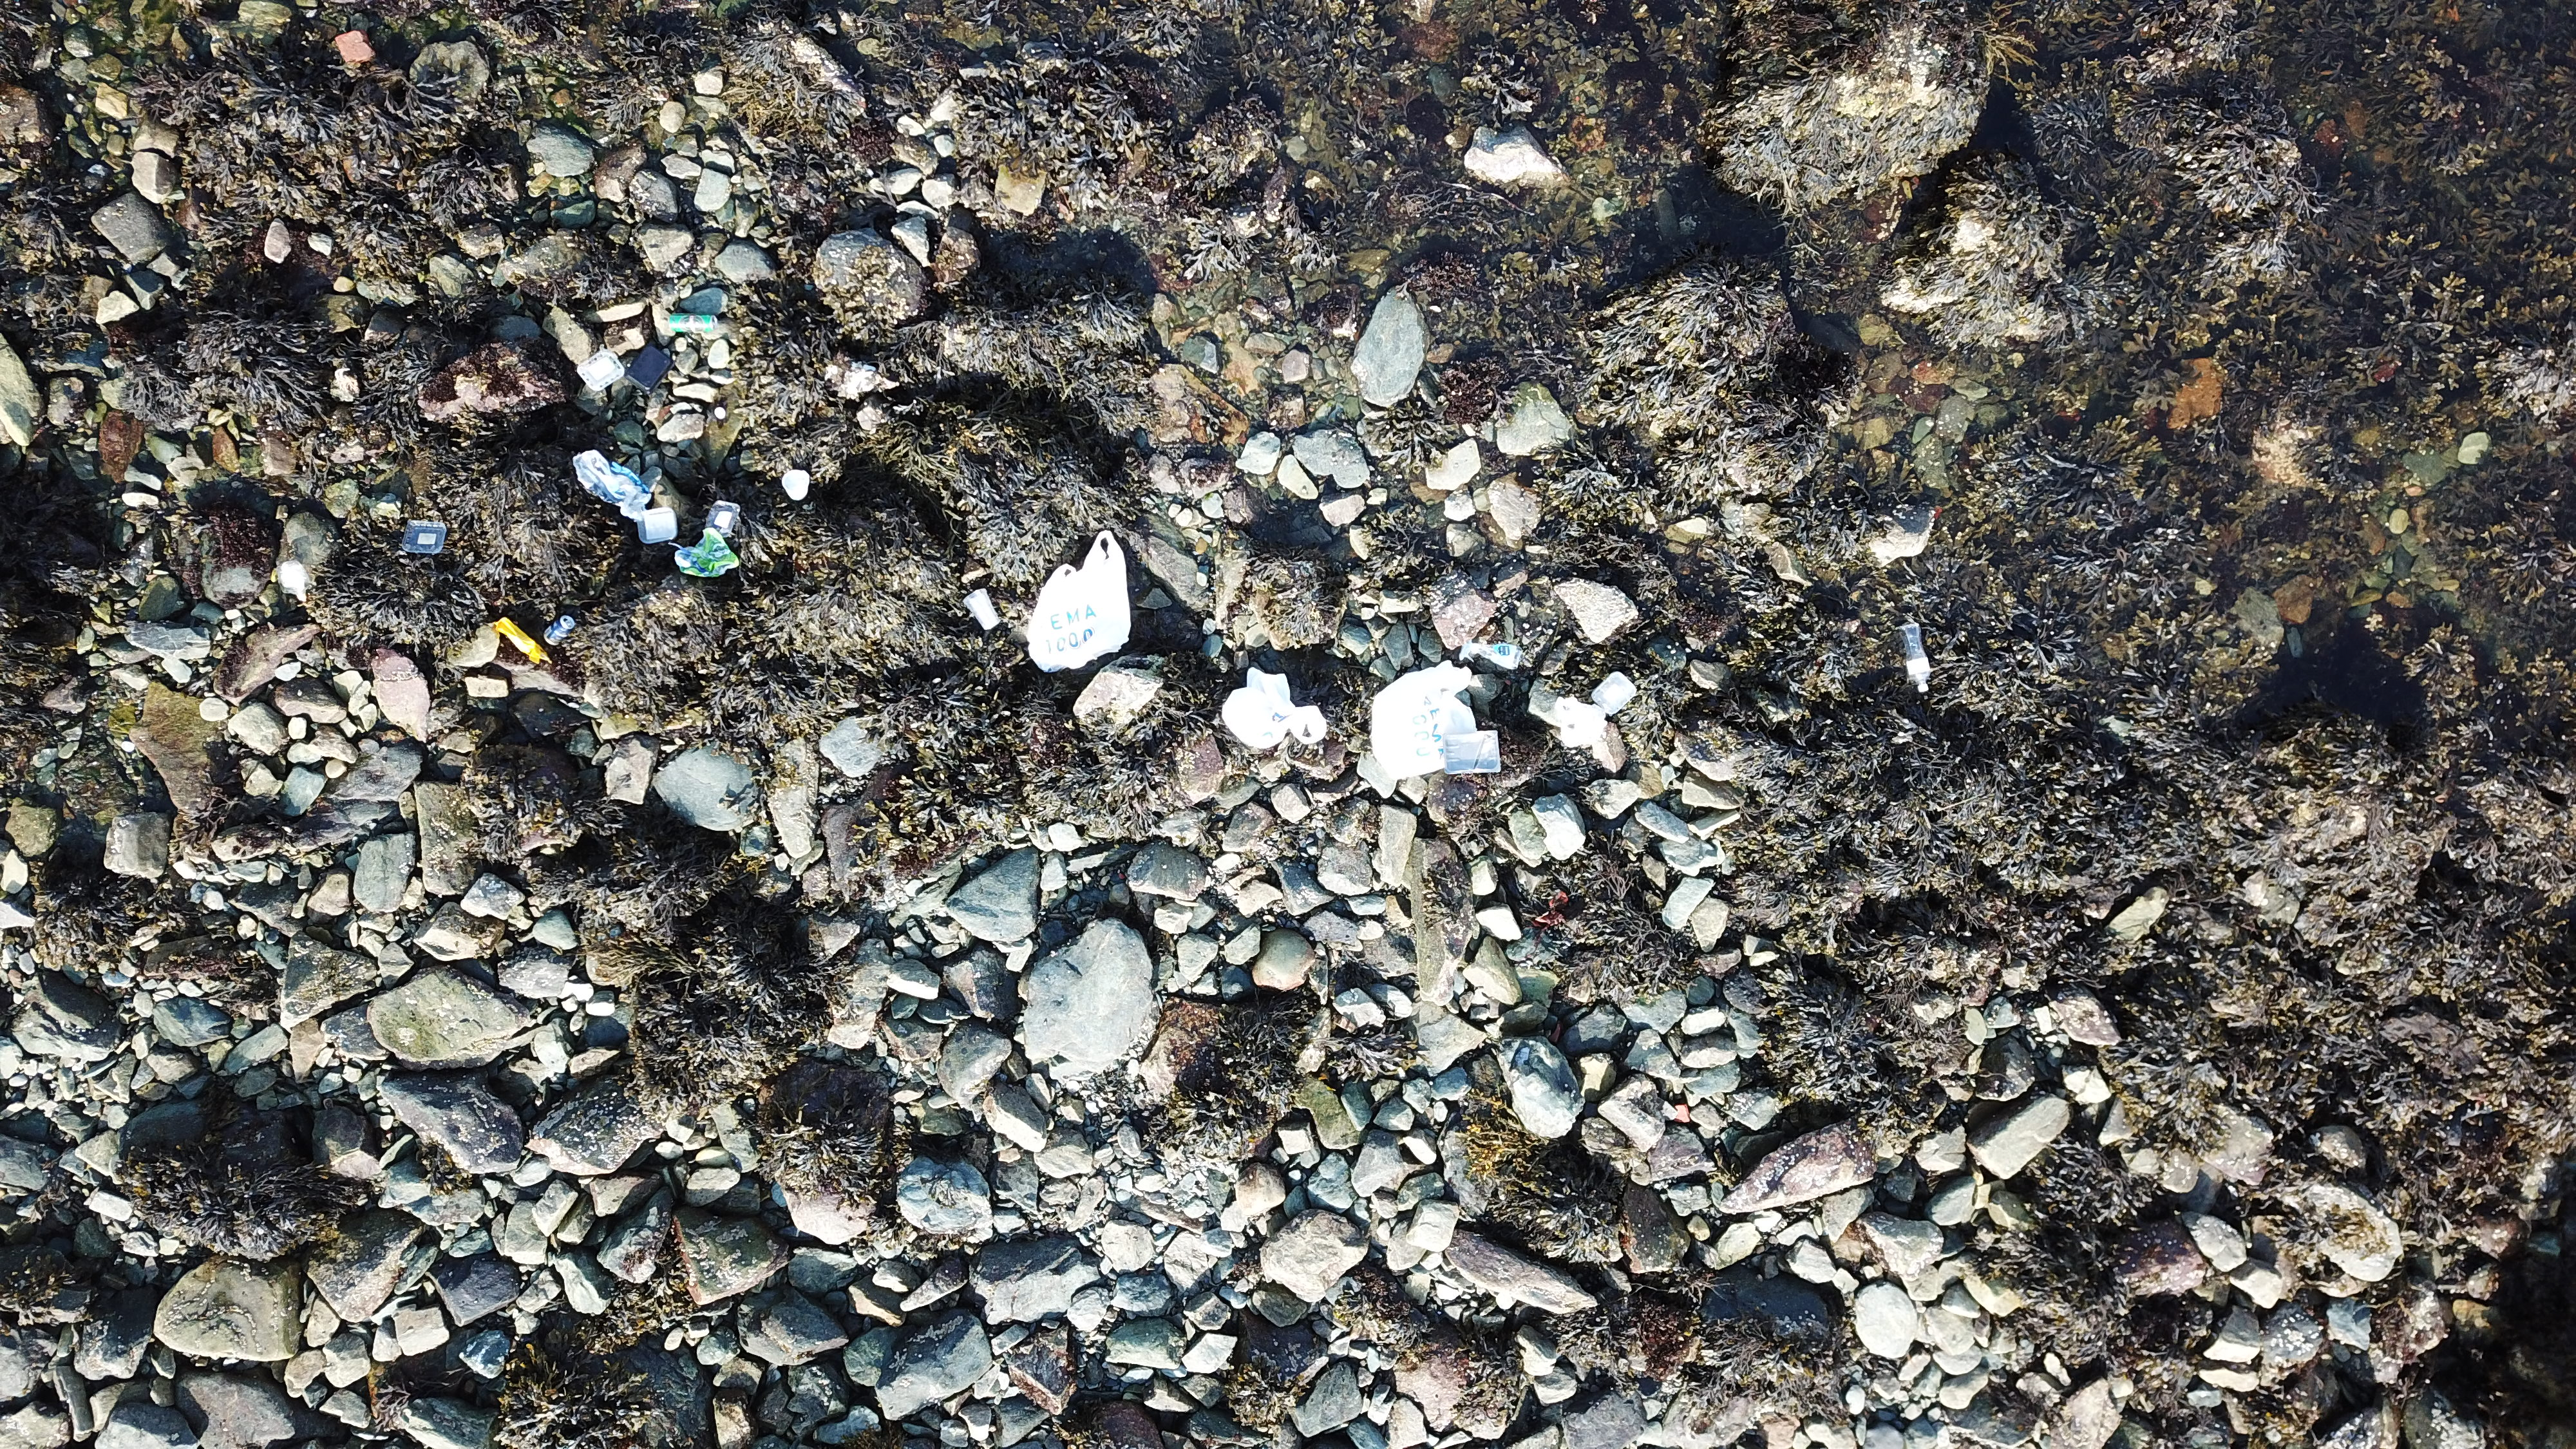Can: (667, 310, 720, 336), (543, 614, 577, 646)
Plastic: (1028, 531, 1131, 672), (1371, 658, 1477, 777), (1223, 667, 1329, 750), (571, 449, 655, 522), (674, 527, 741, 579), (1440, 729, 1504, 775), (495, 616, 552, 667), (625, 343, 674, 395), (1458, 637, 1522, 672), (575, 349, 626, 391), (1591, 671, 1637, 715), (402, 518, 448, 556), (964, 586, 1001, 632), (639, 508, 679, 545), (706, 499, 741, 536), (782, 469, 812, 502)
PlasticBottle: (1898, 623, 1932, 694)
